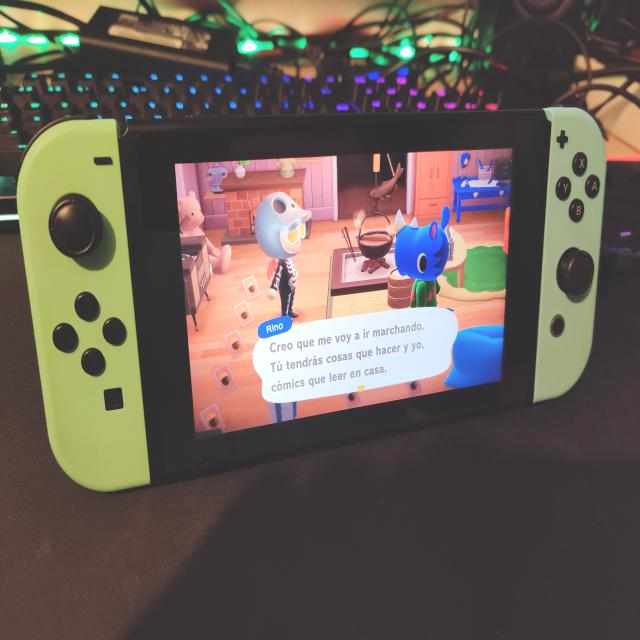text_bubble: (252, 307, 460, 405)
